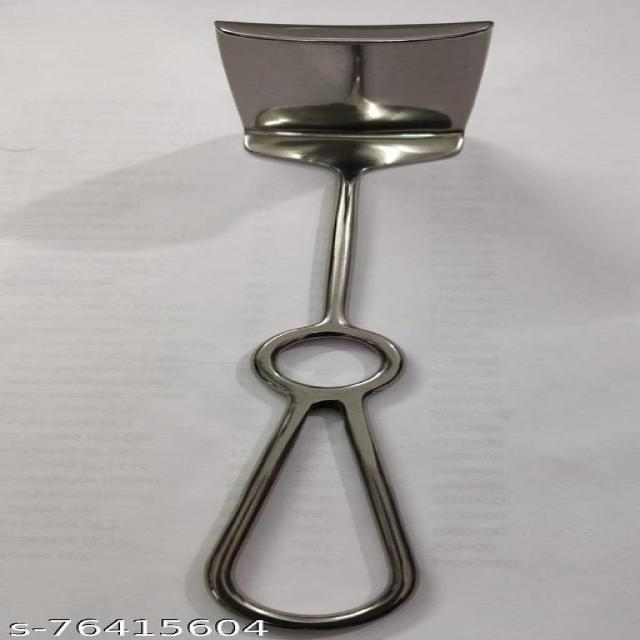Morris Retractor: (175, 12, 529, 625)
